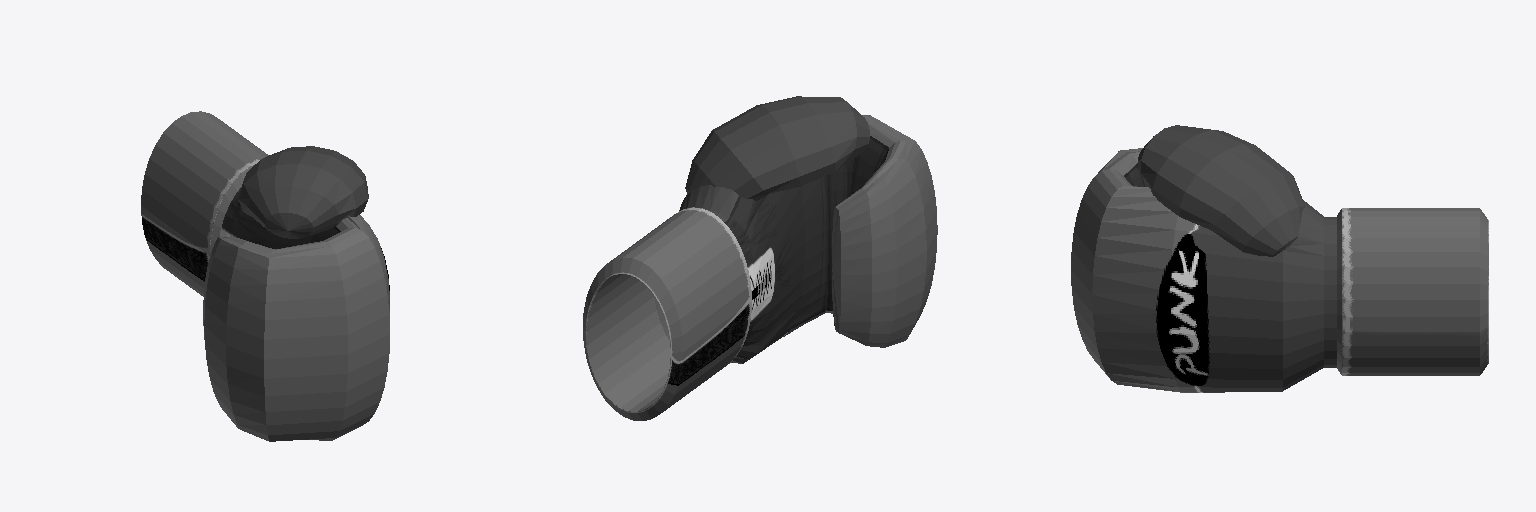
3 renders of one model, left to right at view 1: azimuth 30°, elevation 25°; view 2: azimuth 150°, elevation 25°; view 3: azimuth 270°, elevation 25°, orthographic.
Visible parts, largest first — view 1: glove.L; view 2: glove.L; view 3: glove.L.
Boxes of the visible parts, x1=… form: glove.L: x1=141, y1=111, x2=389, y2=441; glove.L: x1=583, y1=96, x2=937, y2=420; glove.L: x1=1071, y1=125, x2=1488, y2=392.
Size of the model in its own units: 1.54 by 1.91 by 2.96.
2 materials, 2 textured.